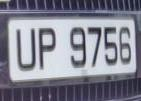5: (103, 22, 119, 72)
6: (119, 21, 133, 73)
7: (87, 21, 104, 74)
9: (67, 20, 89, 76)
P: (36, 21, 60, 76)
U: (14, 23, 39, 76)
